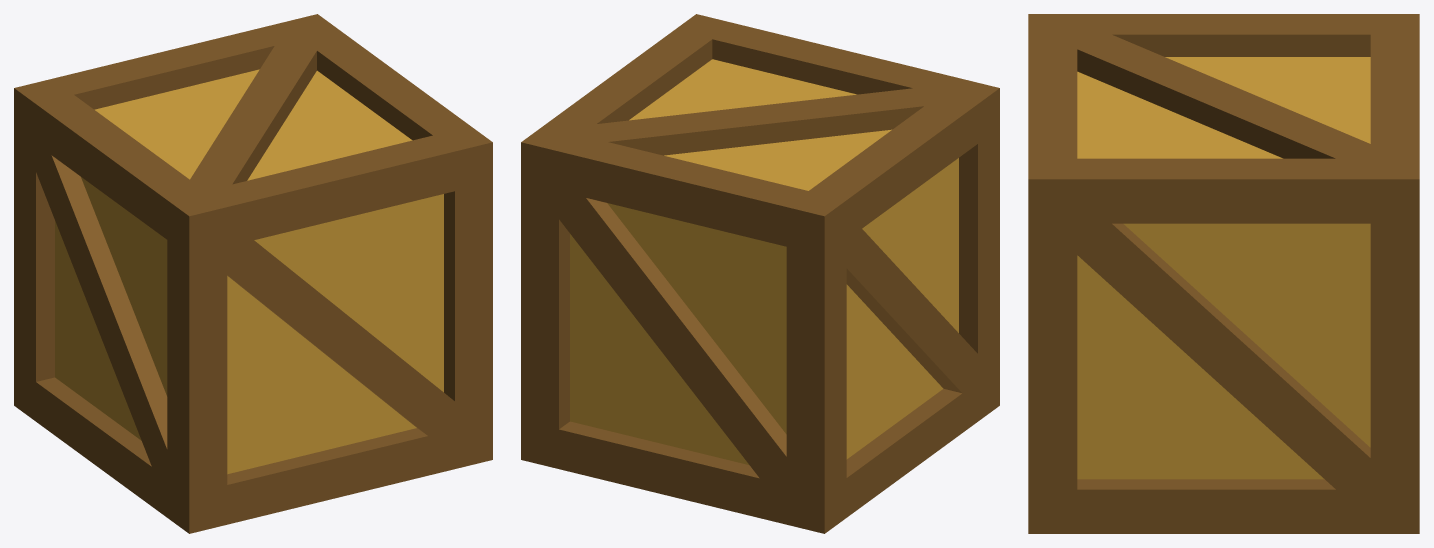
File: NormalCrate.obj
3 views of the same model, side by side, from view 1: azimuth 30°, elevation 25°; view 2: azimuth 150°, elevation 25°; view 3: azimuth 270°, elevation 25° (orthographic). The views are drawn at different scales.
Parts seen in each view (by area): view 1: NormalCrate_Cube; view 2: NormalCrate_Cube; view 3: NormalCrate_Cube.
Boxes of the visible parts, x1,y1,x2,y2 form: NormalCrate_Cube: (14,14,492,533); NormalCrate_Cube: (521,14,999,533); NormalCrate_Cube: (1028,14,1419,533).
Size of the model in its own units: 1 by 1 by 1.
